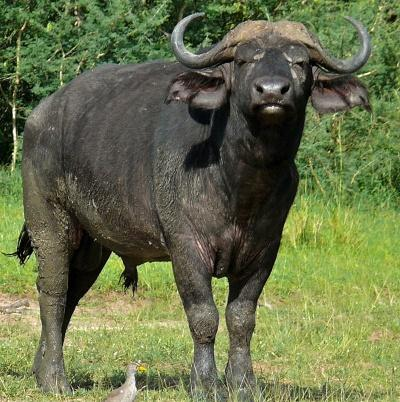buffalo: (16, 18, 372, 402)
